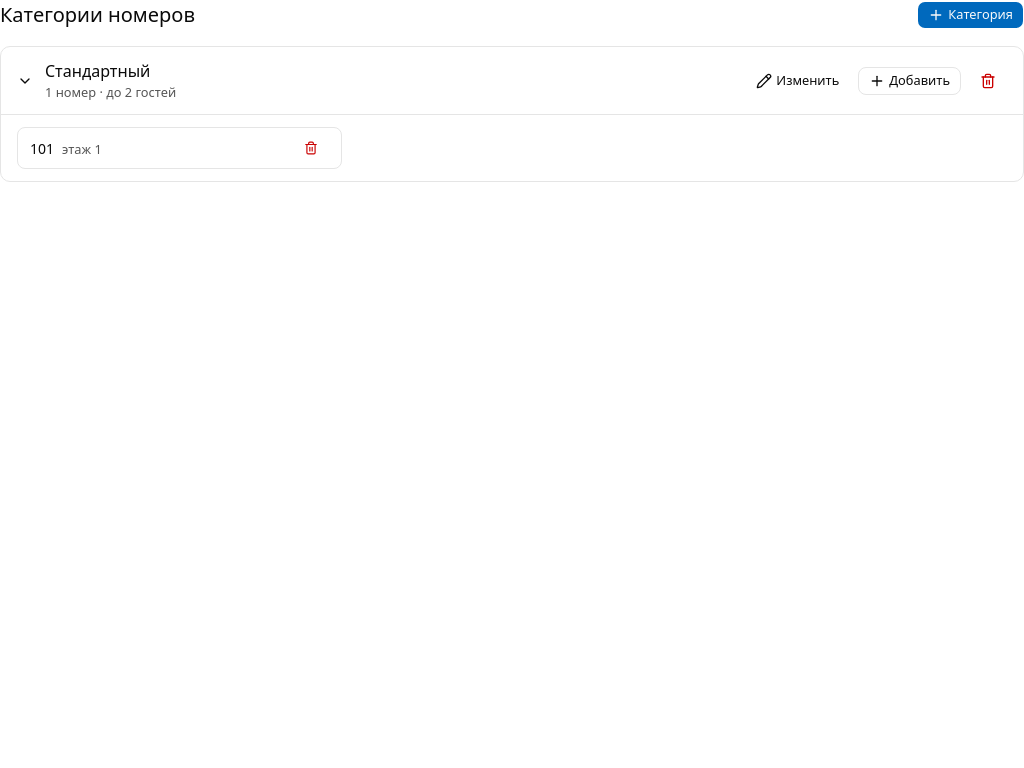
Scenario: InventoryRoomsPage — render › [P6] click trash → ConfirmDialog opens с RU plural in description
This screenshot has width=1024, height=768.
Click the button named "Удалить категорию «Стандартный»". click: (988, 81)
box: [969,67,1007,95]
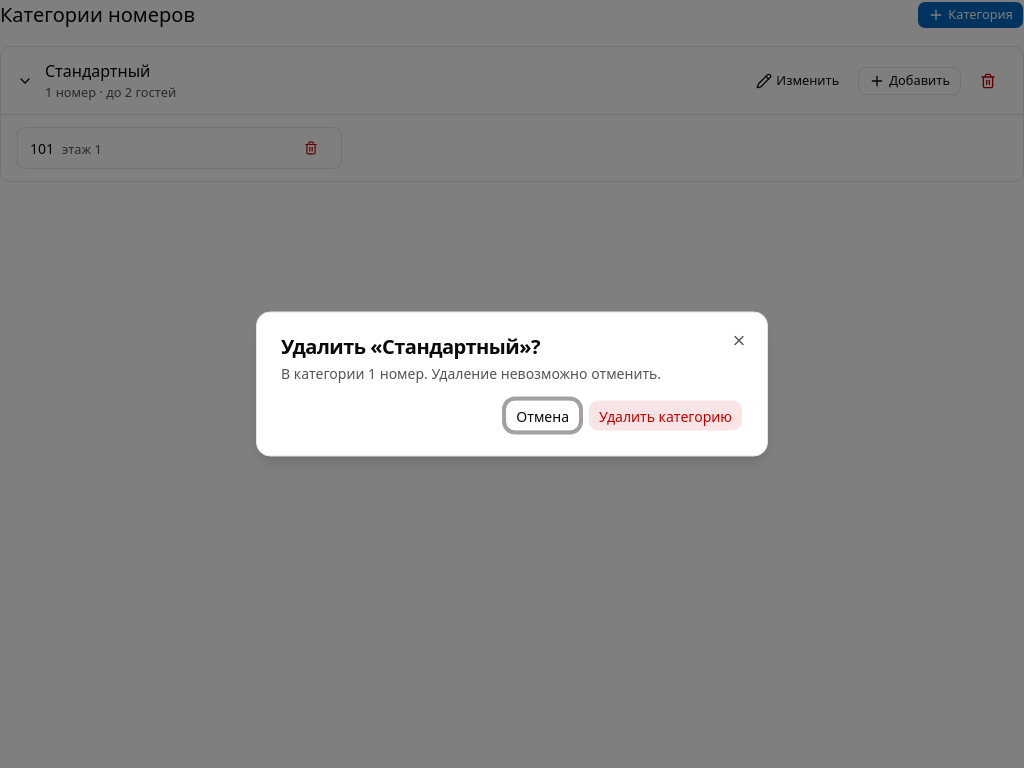
Expected: the heading "Удалить «Стандартный»?" is shown, [281,332,540,360]
Expected: the text "В категории 1 номер. Удаление невозможно отменить." is shown, [281,364,661,382]
